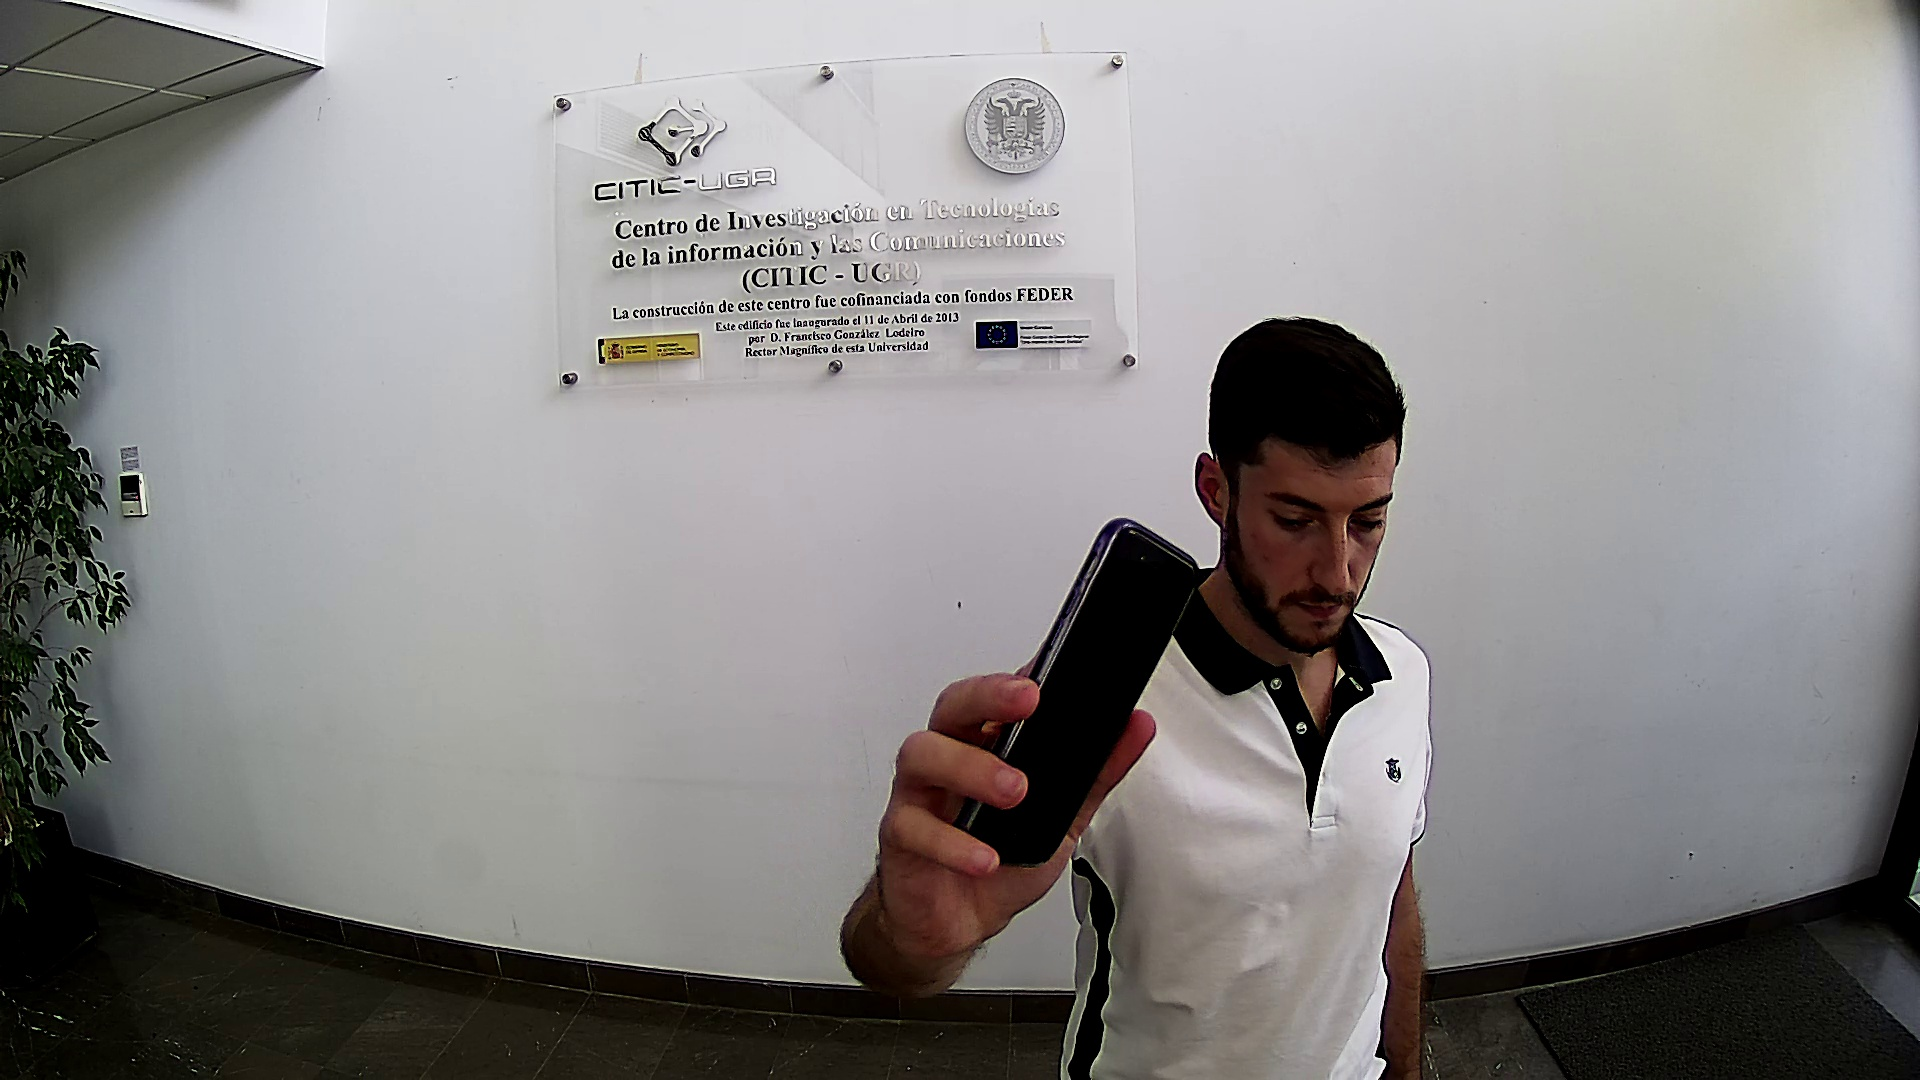smartphone: (948, 516, 1201, 872)
